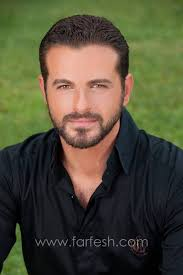middle_eastern_male: (44, 34, 138, 147)
